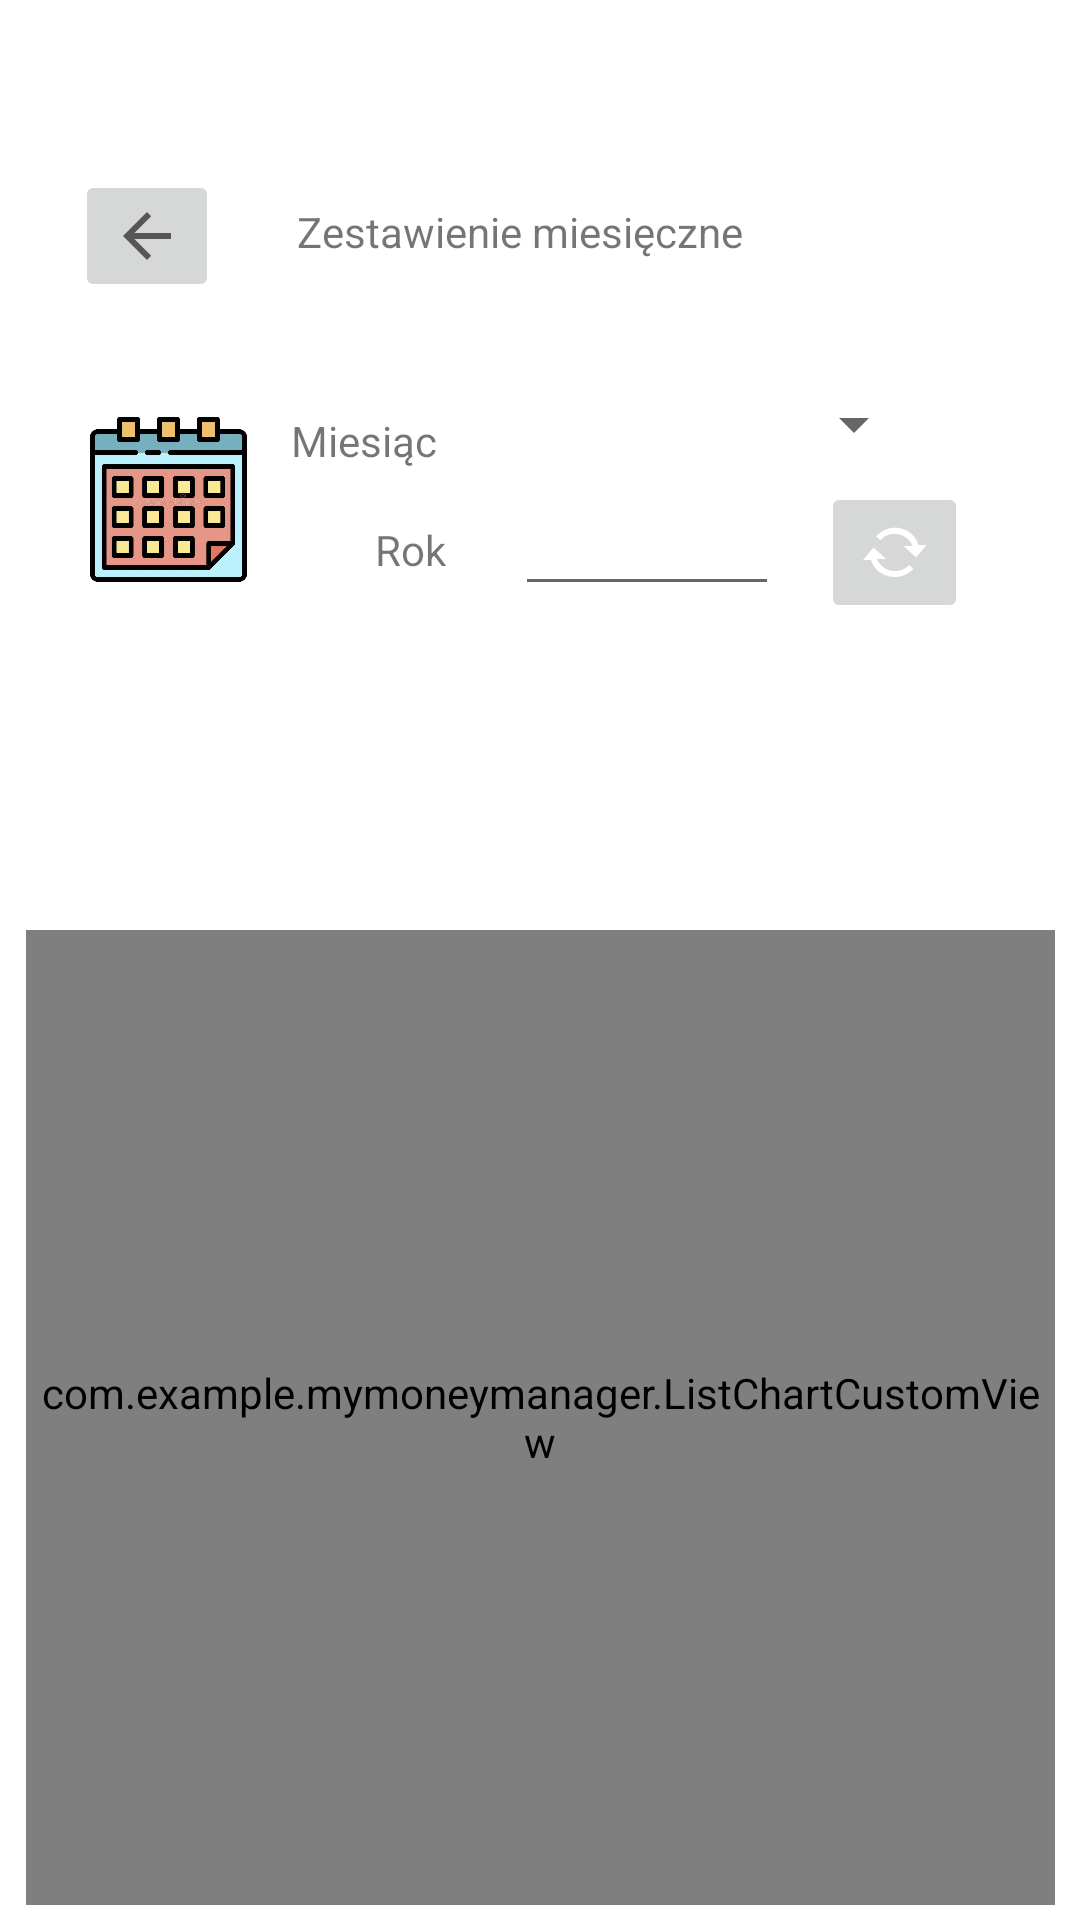

Point at icon controls on the screen. Image size 1080px×1920px, points as [x,y].
calendar: [168,499]
sync: [894,552]
